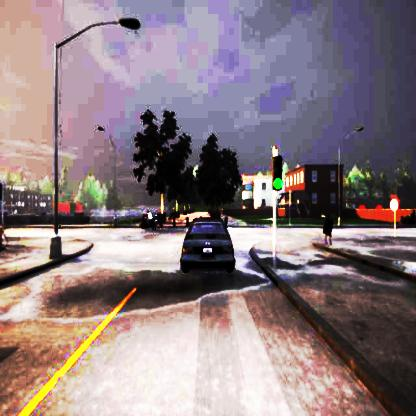motobike: (139, 210, 157, 230)
vehicle: (180, 219, 235, 274)
